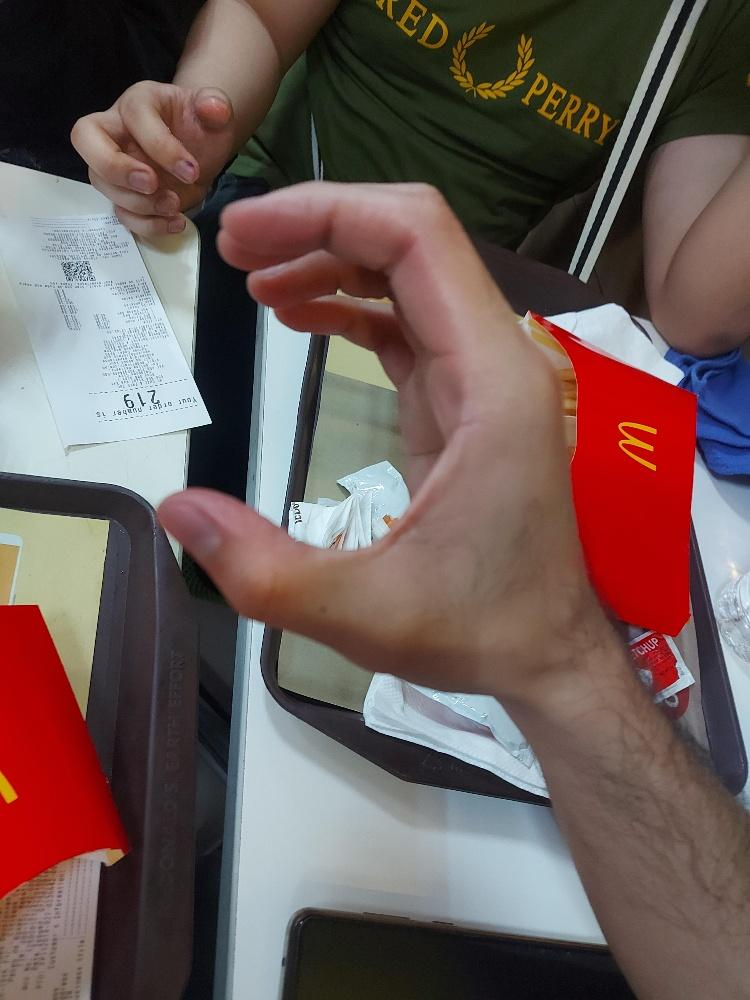c: (152, 174, 606, 695)
